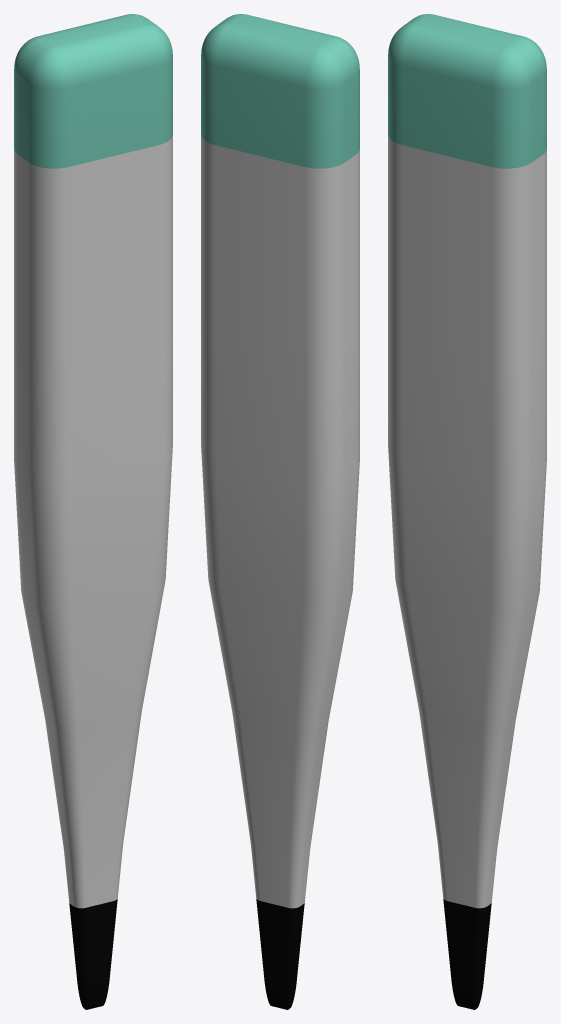
The model's file is thermometer.fbx.
3 renders of one model, left to right at view 1: azimuth 30°, elevation 25°; view 2: azimuth 150°, elevation 25°; view 3: azimuth 330°, elevation 25°, orthographic.
Visible parts, largest first — view 1: body, head, tail; view 2: body, head, tail; view 3: body, head, tail.
Boxes of the visible parts, x1,y1,x2,y2 form: body: (14, 135, 172, 908); head: (14, 14, 172, 168); tail: (69, 899, 117, 1009); body: (201, 135, 359, 908); head: (201, 14, 359, 168); tail: (256, 899, 304, 1009); body: (388, 135, 546, 908); head: (388, 14, 546, 168); tail: (443, 899, 491, 1009).
Bounding box in the file's own units: 59.04 × 393 × 29.33.
